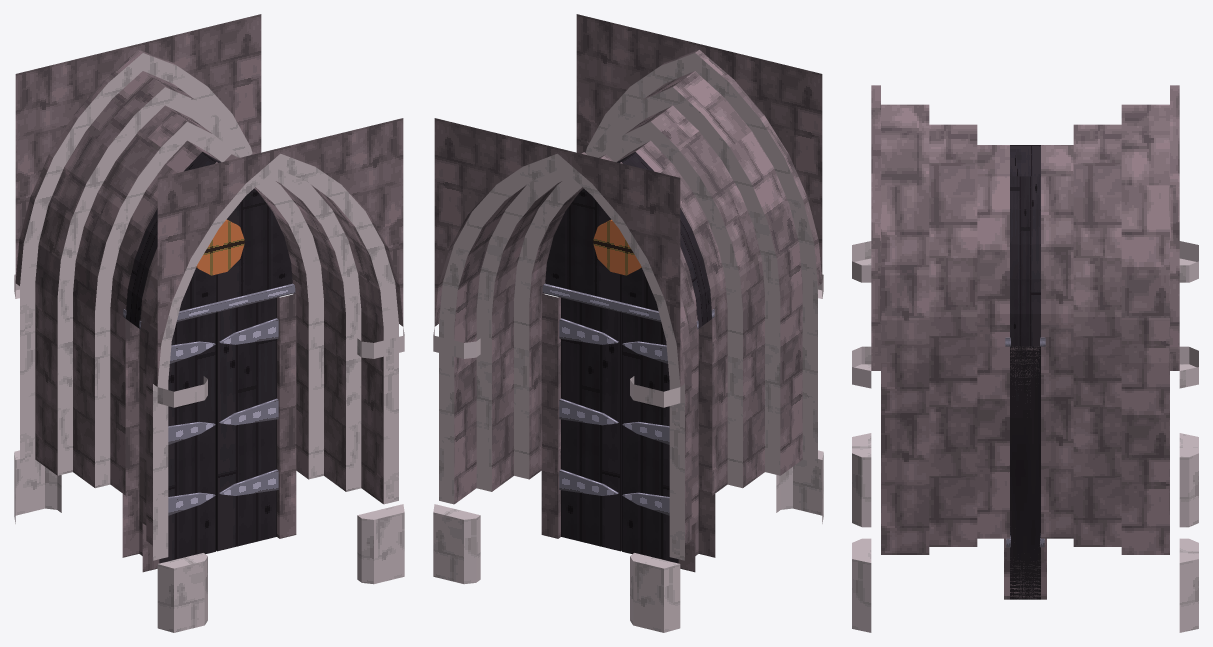
File: door_bosshell_a.glb
The picture shows the model from 3 angles, left to right: view 1: azimuth 30°, elevation 25°; view 2: azimuth 150°, elevation 25°; view 3: azimuth 270°, elevation 25°; orthographic projection. The views are drawn at different scales.
Parts seen in each view (by area): view 1: portal_back, portal_front, leaf_a, portal, leaf_b; view 2: portal_front, portal_back, leaf_a, portal, leaf_b; view 3: portal_front, portal_back, leaf_a, portal.
Boxes of the visible parts, x1,y1,x2,y2 form: portal_back: [14, 14, 279, 557]; portal_front: [139, 118, 404, 632]; leaf_a: [216, 297, 278, 551]; portal: [123, 152, 295, 329]; leaf_b: [159, 312, 215, 563]; portal_front: [558, 14, 823, 557]; portal_back: [433, 118, 698, 632]; leaf_a: [559, 297, 621, 551]; portal: [542, 152, 714, 329]; leaf_b: [622, 312, 678, 563]; portal_front: [852, 85, 1025, 632]; portal_back: [1025, 85, 1198, 632]; leaf_a: [1006, 346, 1044, 599]; portal: [1005, 145, 1045, 346].
Bounding box in the file's own units: 2 × 3.5 × 2.25.
1 material, 1 textured.
